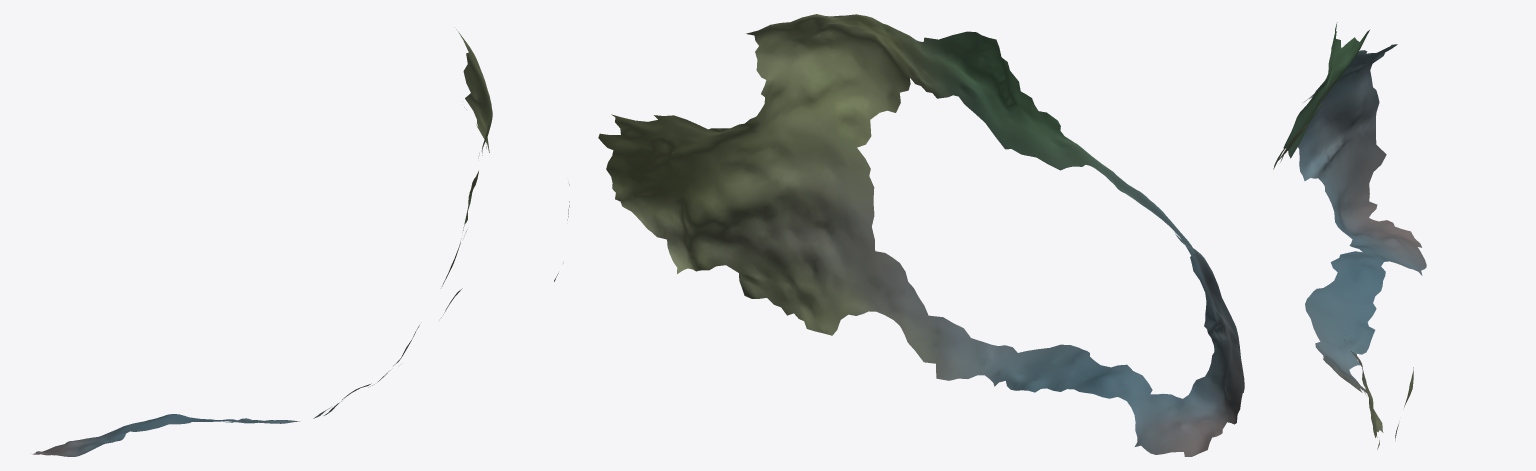
Rendered from LODS_Cloud_global_17.glb.
3 views of the same model, side by side, from view 1: azimuth 30°, elevation 25°; view 2: azimuth 150°, elevation 25°; view 3: azimuth 270°, elevation 25° (orthographic). The views are drawn at different scales.
Visible parts, largest first — view 1: LOD0; view 2: LOD0; view 3: LOD0.
Part boxes in pixels (x1=…): LOD0: x1=32, y1=29, x2=569, y2=456; LOD0: x1=598, y1=14, x2=1244, y2=456; LOD0: x1=1273, y1=22, x2=1426, y2=449.
Size of what is drawn, in the model's own units: 0.5124 by 0.2837 by 0.1758.
